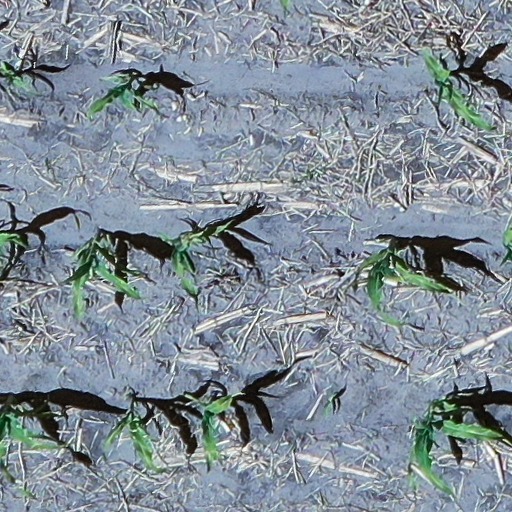planta: (407, 396, 511, 500), (358, 248, 452, 326), (69, 235, 142, 318), (422, 47, 494, 130), (158, 218, 235, 295), (183, 390, 247, 472), (87, 74, 171, 119), (104, 413, 168, 472)
